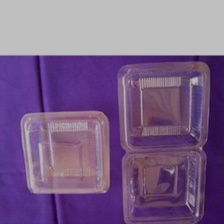plastic_box: (109, 55, 216, 223), (15, 103, 114, 200)
